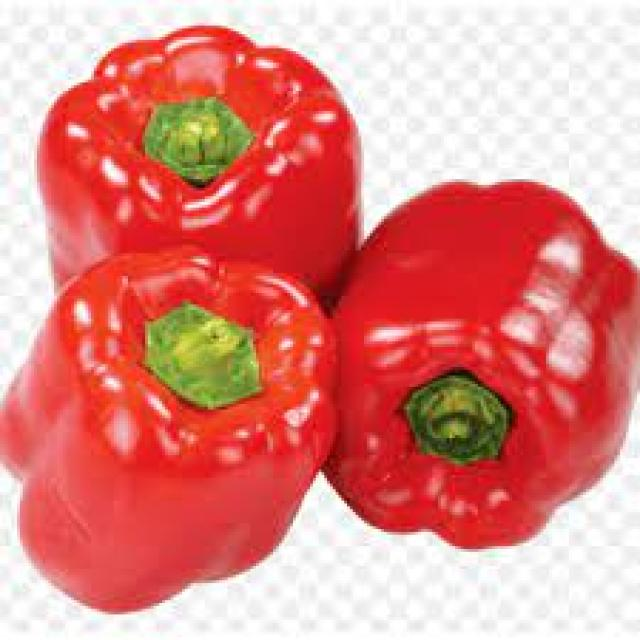pepper: (0, 242, 336, 612), (337, 180, 640, 548), (39, 28, 358, 296)
